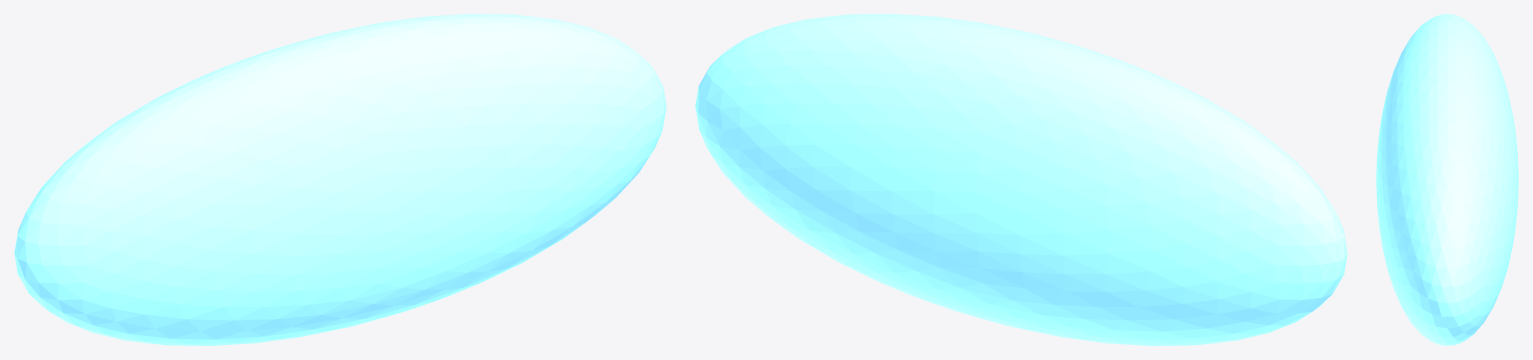
File: eye_left.glb
3 views of the same model, side by side, from view 1: azimuth 30°, elevation 25°; view 2: azimuth 150°, elevation 25°; view 3: azimuth 270°, elevation 25° (orthographic). The views are drawn at different scales.
Visible parts, largest first — view 1: eye_left; view 2: eye_left; view 3: eye_left.
Boxes of the visible parts, x1,y1,x2,y2 form: eye_left: [14, 14, 666, 345]; eye_left: [695, 14, 1347, 345]; eye_left: [1376, 14, 1518, 345].
Bounding box in the file's own units: 18 × 7.6 × 4.4.
